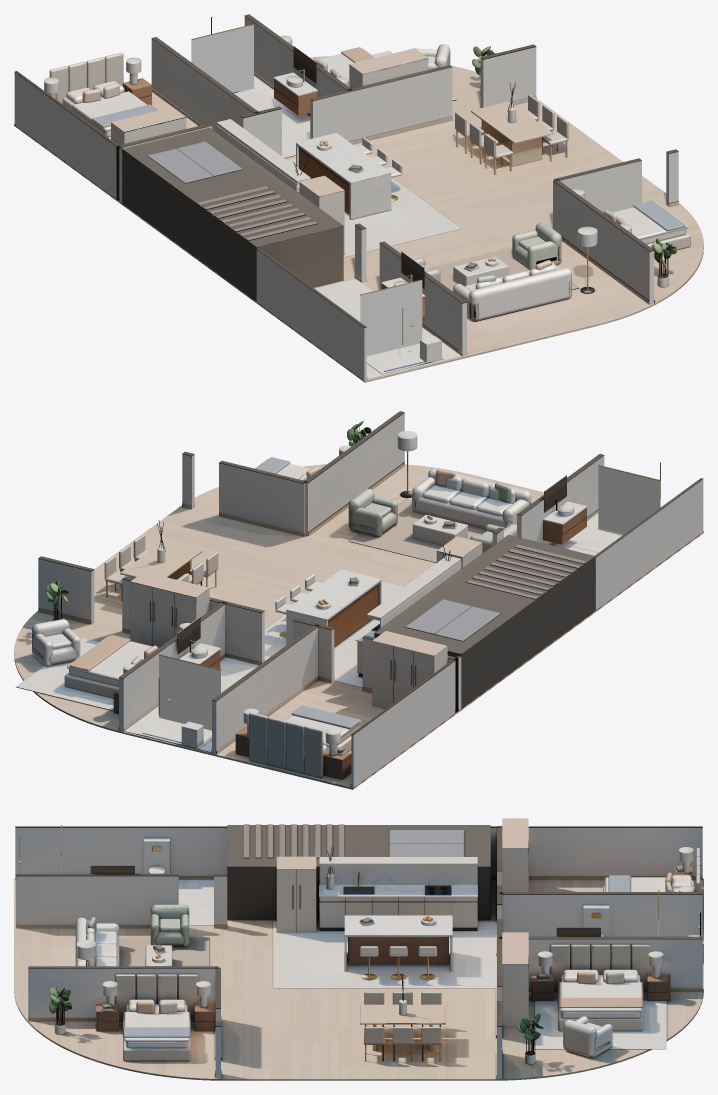
Rendered from half3.glb.
The picture shows the model from 3 angles, top to bottom: view 1: azimuth 30°, elevation 25°; view 2: azimuth 150°, elevation 25°; view 3: azimuth 270°, elevation 25°; orthographic projection.
Parts seen in each view (by area): view 1: residence, glass; view 2: residence, glass; view 3: residence.
Boxes of the visible parts, box(x1,y1,x2,y2) form: residence: box(14, 14, 703, 382); glass: box(191, 25, 422, 356); residence: box(14, 411, 703, 789); glass: box(159, 466, 660, 730); residence: box(14, 818, 703, 1080).
Size of the model in its own units: 10.8 by 1.96 by 15.7.
Materials: 2 (1 with a texture image).
